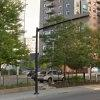Tree: (43, 19, 100, 73)
